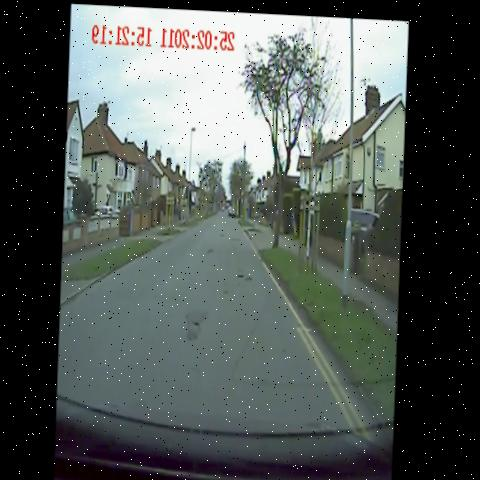pothole: (186, 308, 208, 347), (226, 265, 257, 283), (220, 274, 236, 300), (205, 244, 219, 261), (232, 231, 244, 244), (222, 227, 227, 241)
